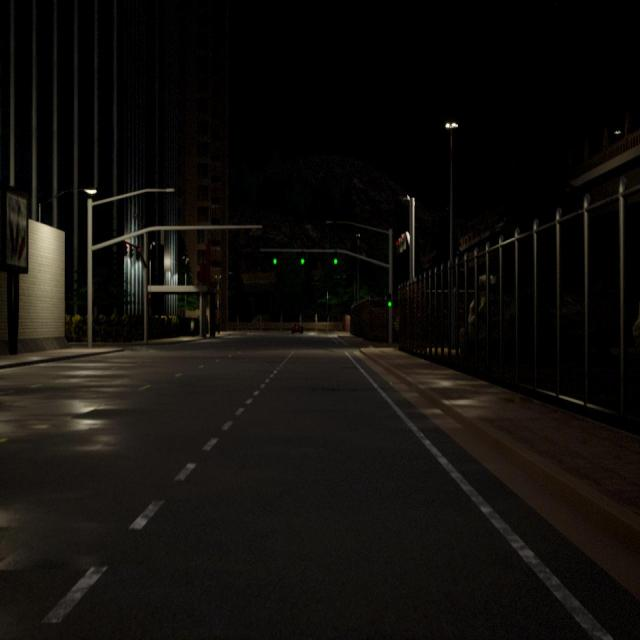Vehicle: (290, 323, 304, 334)
traffic_light: (386, 292, 392, 308), (123, 242, 128, 256), (136, 246, 141, 260), (402, 234, 406, 249), (130, 243, 134, 258), (334, 251, 338, 264), (273, 252, 277, 264), (399, 238, 402, 252), (301, 252, 304, 264), (396, 240, 398, 252)
